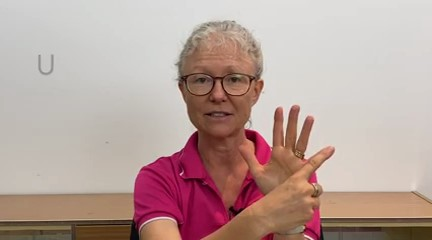U: (232, 94, 339, 240)
